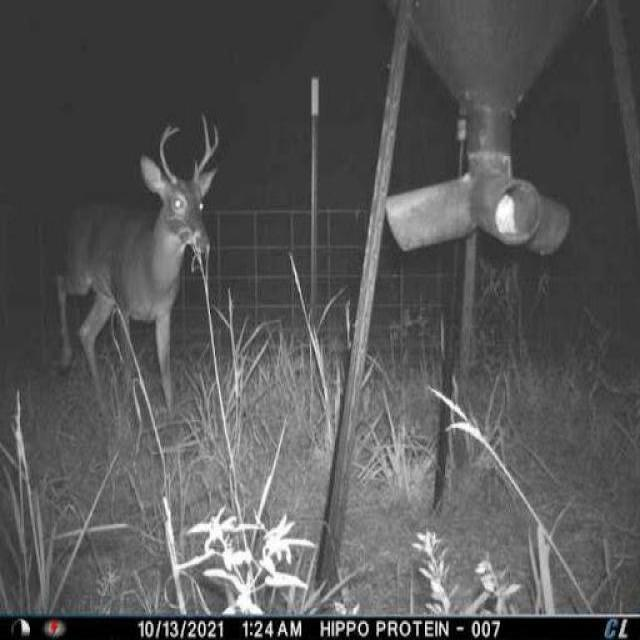deer: (51, 109, 229, 448)
